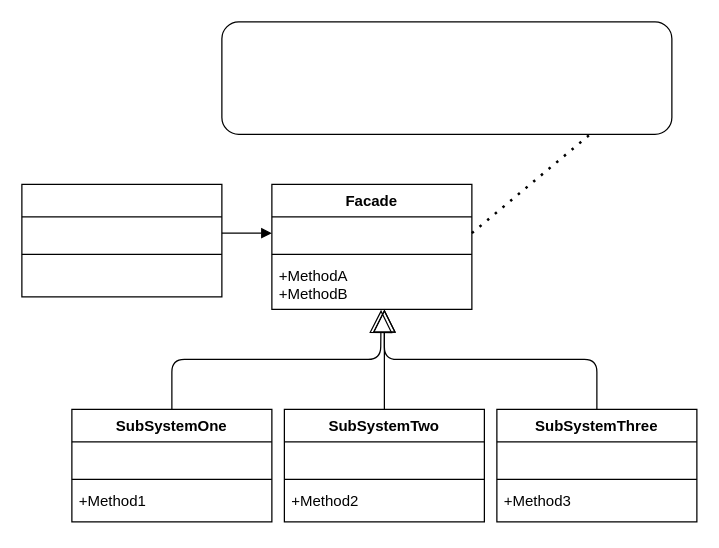
Some shapes in this 719 by 548 pixel diagram are drawn without their labels. Here are the shapes that lost their labels. From the top down, the centre of each, then its label:
At (x=446, y=77): "Facade外观类 ，接收客户端的请求执行具体的函数，facede类知道哪些子系统负责处理请求。".
At (x=121, y=240): "Client".
